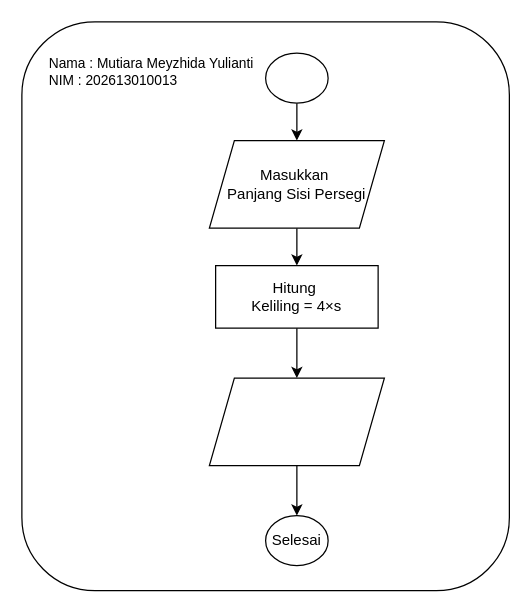
Image size: 531x613. Some labels were removed from this diagram. Here are the shapes that lost their labels. From the top down, the centre of each, then its label:
the point at 296,77: Mulai
the point at 296,421: Tampilkan Keliling Persegi
